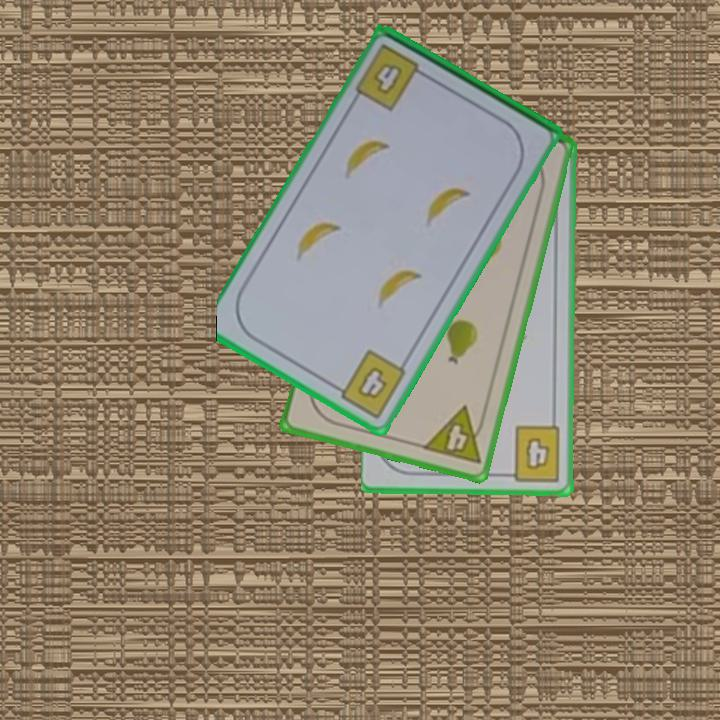4b: (328, 346, 409, 422), (351, 40, 433, 114), (501, 422, 563, 484)
4p: (419, 402, 490, 468)
